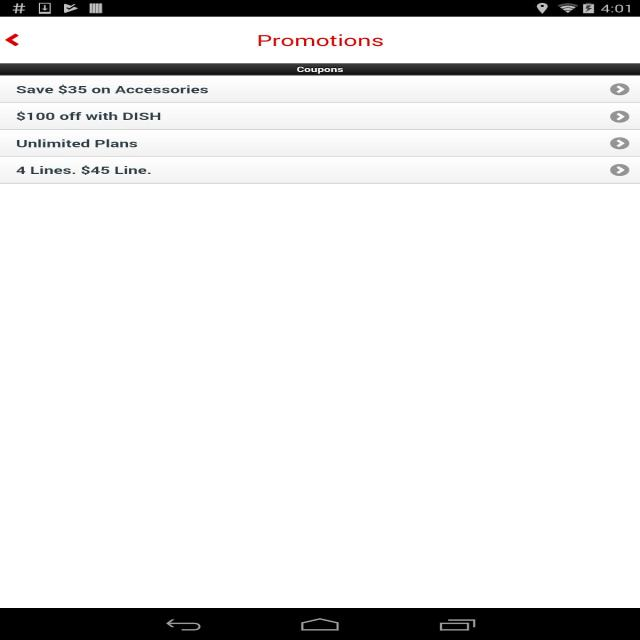button: (1, 156, 640, 184), (0, 102, 640, 128), (0, 130, 640, 156), (0, 76, 639, 101), (2, 27, 23, 51), (609, 81, 631, 96), (609, 163, 630, 177), (609, 136, 629, 150), (609, 110, 630, 123)
heading: (248, 31, 391, 50)
text: (15, 83, 211, 95), (14, 162, 155, 176), (14, 111, 161, 122), (12, 137, 140, 149), (294, 66, 348, 76)
